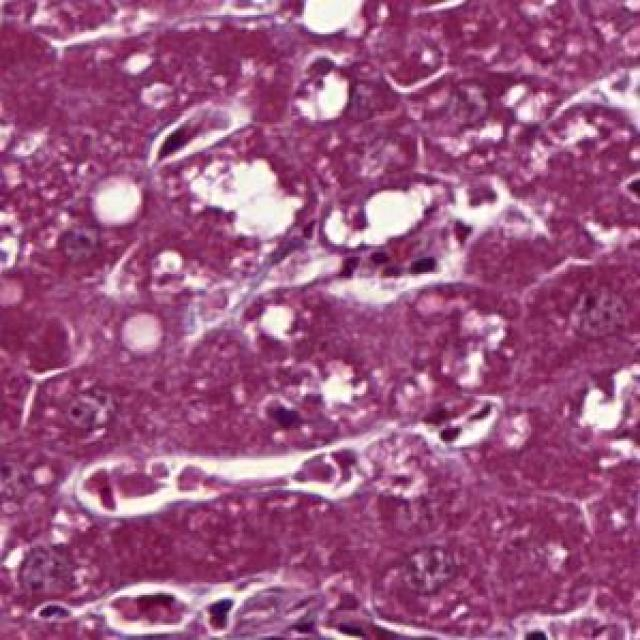ballooning: (276, 45, 364, 137), (90, 574, 201, 638)
